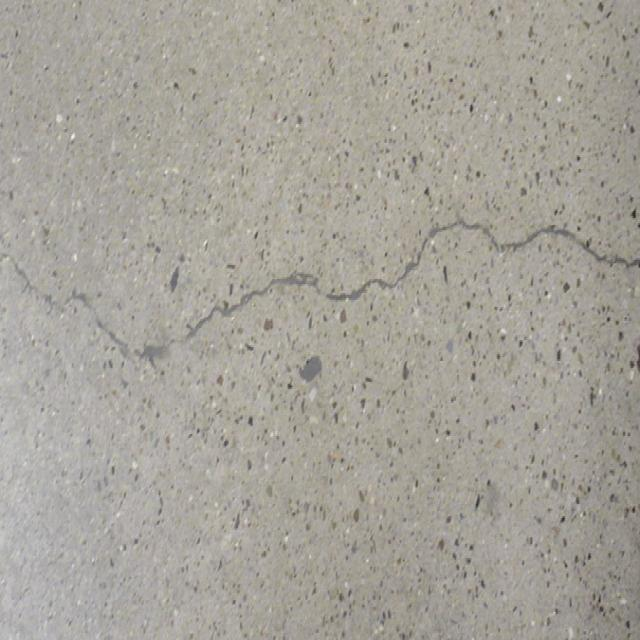horizontal crack: (0, 205, 640, 370)
